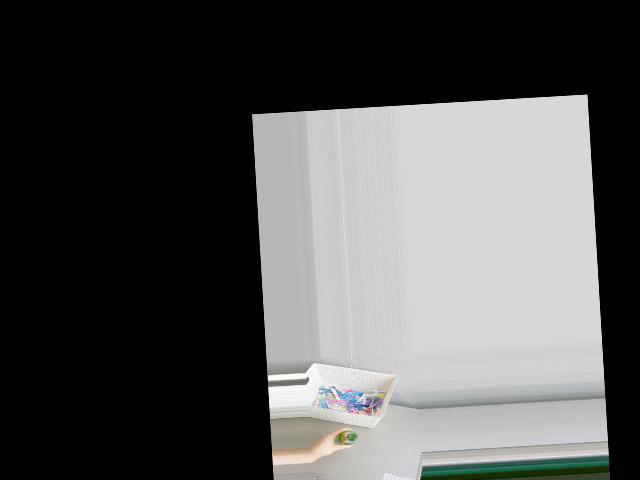beer: (336, 430, 358, 446)
